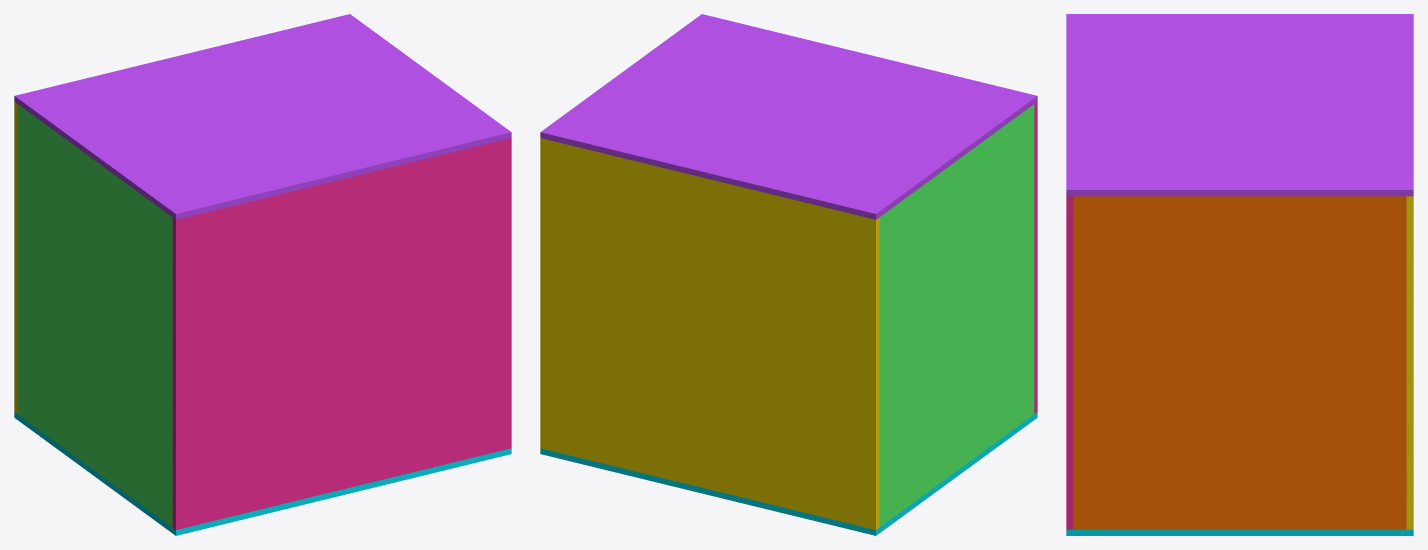
Rendered from cargo-mr.glb.
3 views of the same model, side by side, from view 1: azimuth 30°, elevation 25°; view 2: azimuth 150°, elevation 25°; view 3: azimuth 270°, elevation 25° (orthographic). The views are drawn at different scales.
Parts seen in each view (by area): view 1: CARGO-MR-PORT, CARGO-MR-TOP, CARGO-MR-FORE, CARGO-MR-BASE, CARGO-MR-STARBOARD; view 2: CARGO-MR-STARBOARD, CARGO-MR-TOP, CARGO-MR-FORE, CARGO-MR-BASE, CARGO-MR-PORT; view 3: CARGO-MR-AFT, CARGO-MR-TOP, CARGO-MR-PORT, CARGO-MR-STARBOARD, CARGO-MR-BASE.
Boxes of the visible parts, x1,y1,x2,y2 form: CARGO-MR-PORT: (172, 138, 511, 529); CARGO-MR-TOP: (14, 14, 511, 219); CARGO-MR-FORE: (17, 104, 172, 527); CARGO-MR-BASE: (14, 412, 511, 535); CARGO-MR-STARBOARD: (14, 102, 17, 413); CARGO-MR-STARBOARD: (540, 138, 879, 529); CARGO-MR-TOP: (540, 14, 1037, 219); CARGO-MR-FORE: (879, 104, 1034, 527); CARGO-MR-BASE: (540, 412, 1037, 535); CARGO-MR-PORT: (1034, 102, 1037, 413); CARGO-MR-AFT: (1073, 196, 1406, 529); CARGO-MR-TOP: (1066, 14, 1413, 196); CARGO-MR-PORT: (1066, 196, 1073, 529); CARGO-MR-STARBOARD: (1406, 196, 1413, 529); CARGO-MR-BASE: (1066, 529, 1413, 535).
Bounding box in the file's own units: 2.4 × 2.2 × 2.
